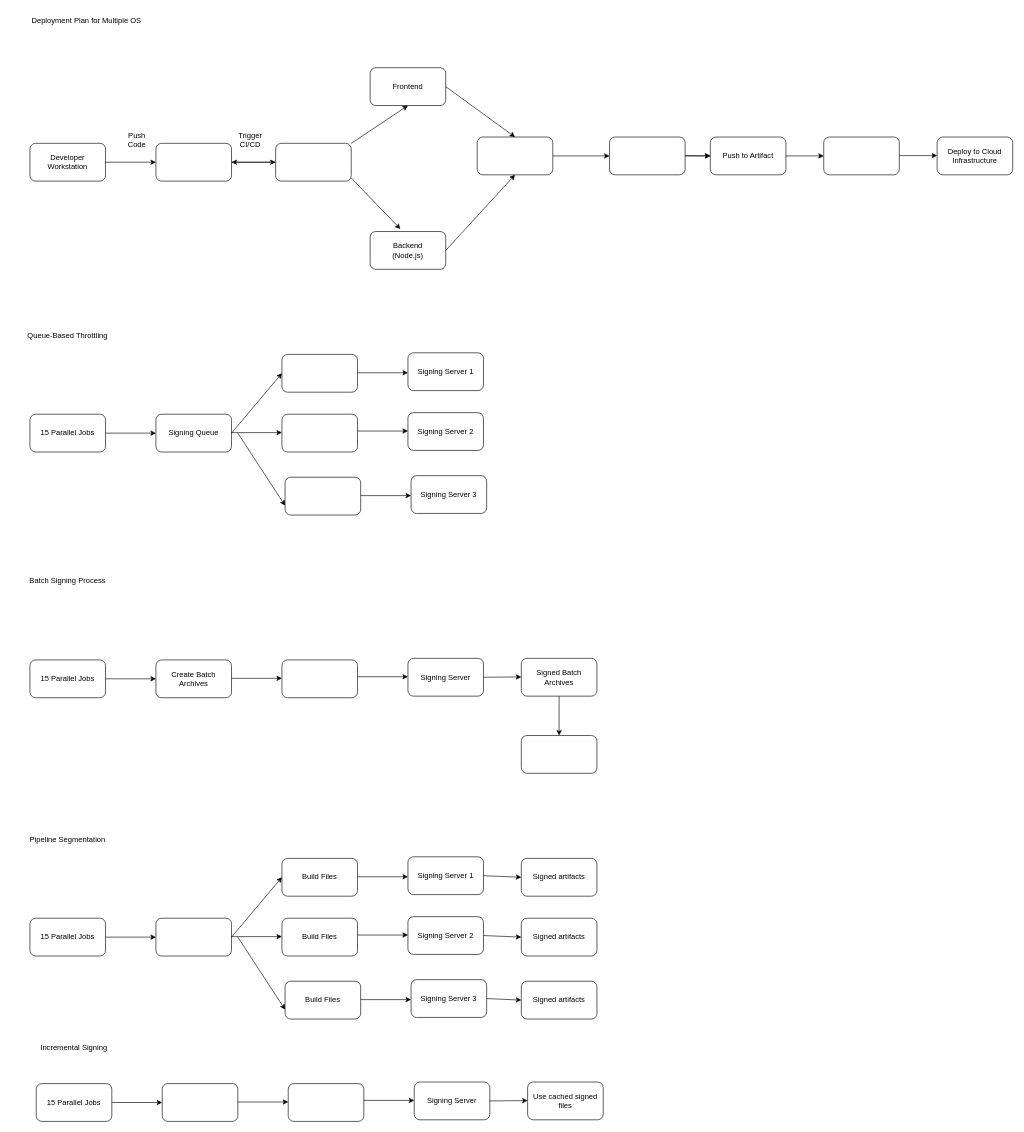
Image size: 1024x1132. Some labels were removed from this diagram. The centre of each missing label's shape, as x and y in pixels:
"Build Docker Images" belongs at [647,155].
"Check any Modifications" belongs at [200,1102].
"Conditional Steps" belongs at [861,155].
"Extract and Distrubute" belongs at [559,754].
"Github" belongs at [193,162].
"Github Actions" belongs at [313,162].
"Send Batch to Sign" belongs at [319,678].
"Seperate Pipelines" belongs at [193,937].
"Sign only changed environment" belongs at [326,1102].
"Signing Worker 1" belongs at [319,373].
"Signing Worker 2" belongs at [319,433].
"Signing Worker 3" belongs at [322,496].
"Unit Test & Code Coverage" belongs at [515,155].
